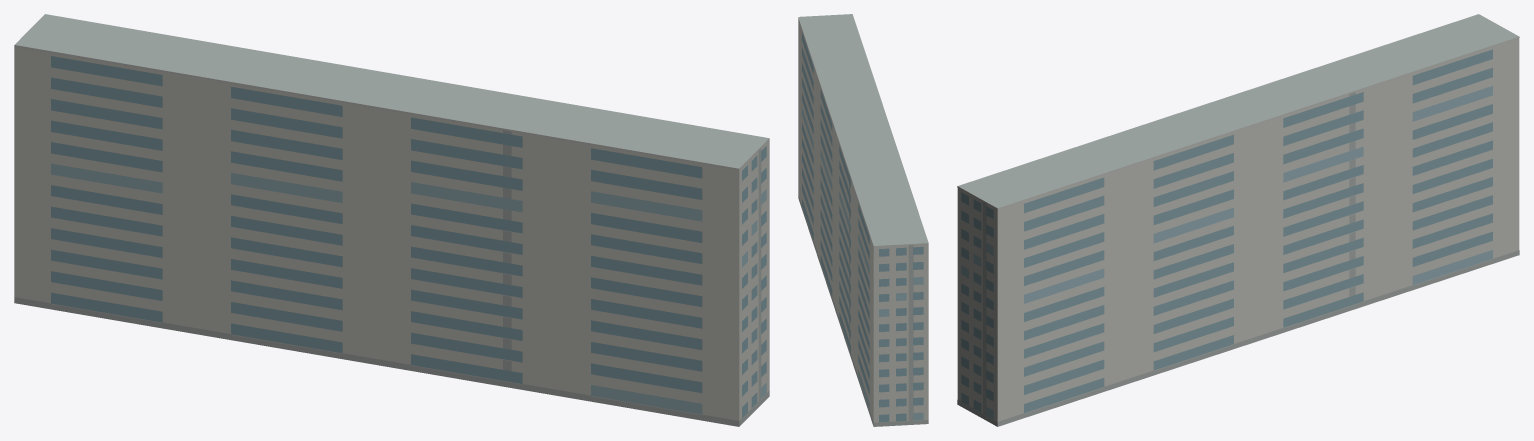
File: residential-77d9282c-50a3-445d-befd-59d731028940.glb
3 renders of one model, left to right at view 1: azimuth 30°, elevation 25°; view 2: azimuth 150°, elevation 25°; view 3: azimuth 270°, elevation 25°, orthographic. The views are drawn at different scales.
Parts seen in each view (by area): view 1: residential-77d9282c-50a3-445d-befd-59d731028940.tmp; view 2: residential-77d9282c-50a3-445d-befd-59d731028940.tmp; view 3: residential-77d9282c-50a3-445d-befd-59d731028940.tmp.
Boxes of the visible parts, x1=… form: residential-77d9282c-50a3-445d-befd-59d731028940.tmp: x1=14, y1=14, x2=769, y2=426; residential-77d9282c-50a3-445d-befd-59d731028940.tmp: x1=798, y1=14, x2=928, y2=426; residential-77d9282c-50a3-445d-befd-59d731028940.tmp: x1=957, y1=14, x2=1519, y2=426.
Size of the model in its own units: 68.69 by 36 by 83.91.
